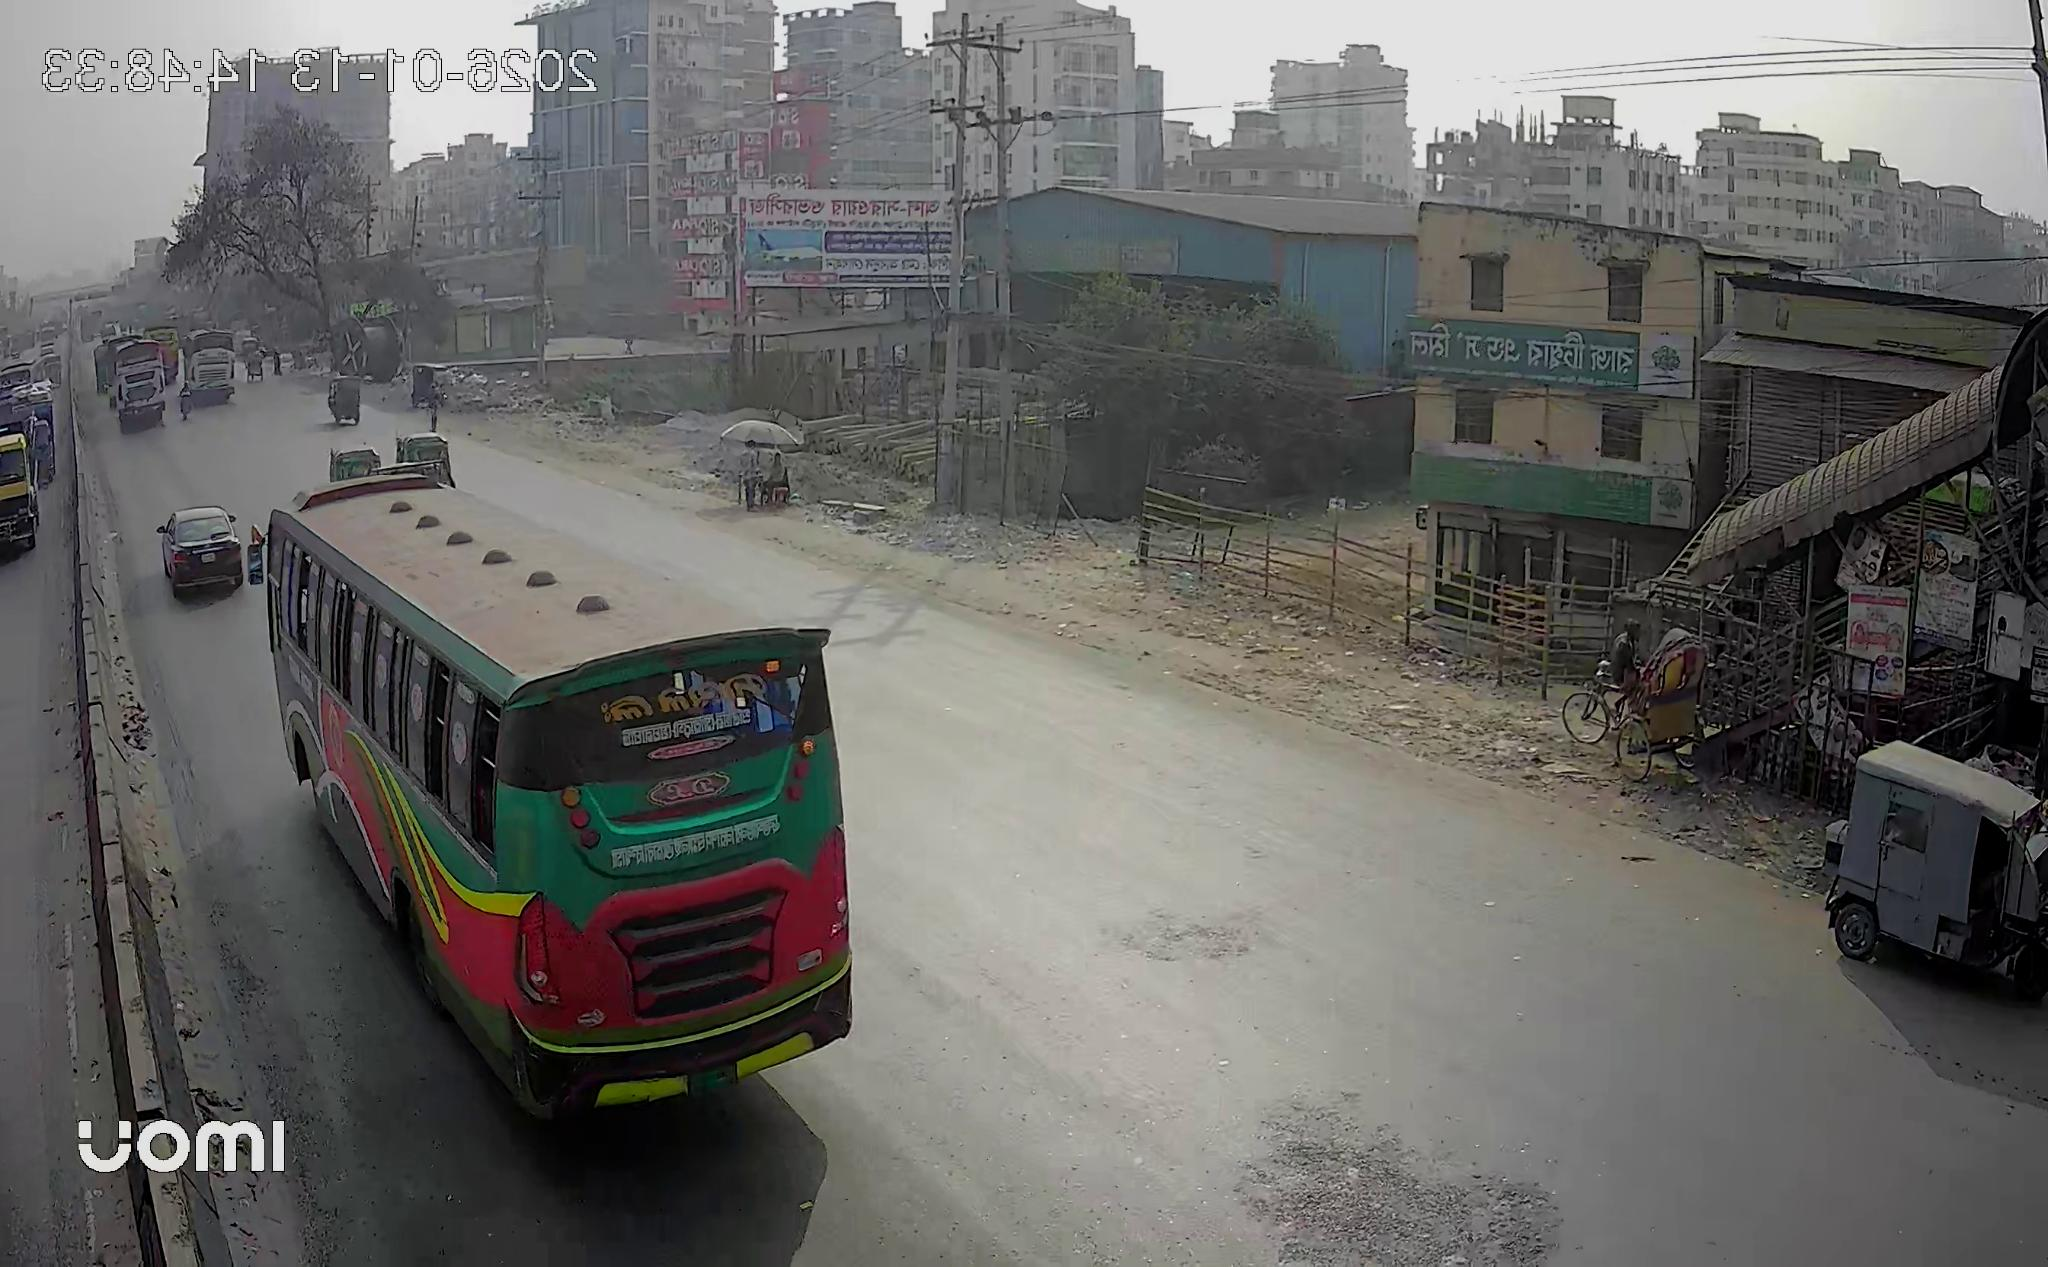Auto Rickshaw: (1824, 742, 2048, 1001)
Bus: (244, 468, 851, 1118), (97, 337, 176, 432), (180, 329, 236, 404)
Cycle Rickshaw: (1562, 620, 1710, 780)
Private-Sedan Car: (157, 506, 244, 595)
